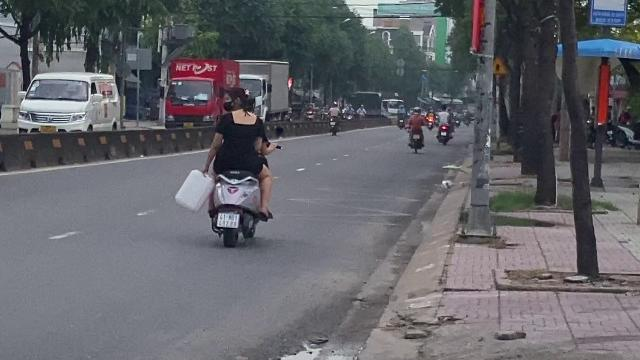licenseplate: (218, 212, 238, 226)
motorcyclist: (177, 84, 277, 248)
nohelmet: (219, 85, 247, 115)
